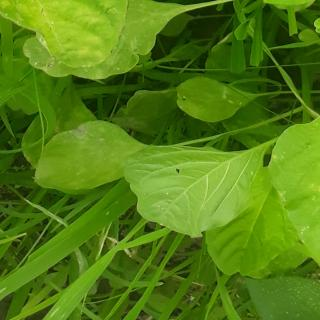karat_putih: (0, 0, 127, 70), (30, 116, 116, 187)
